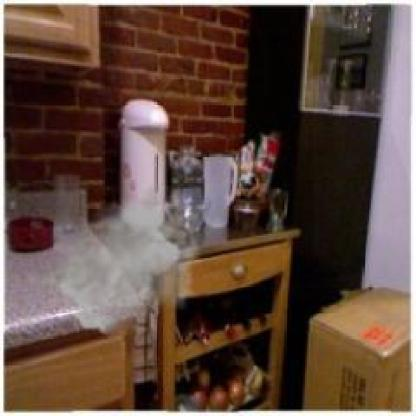Smoke: (24, 180, 205, 338)
